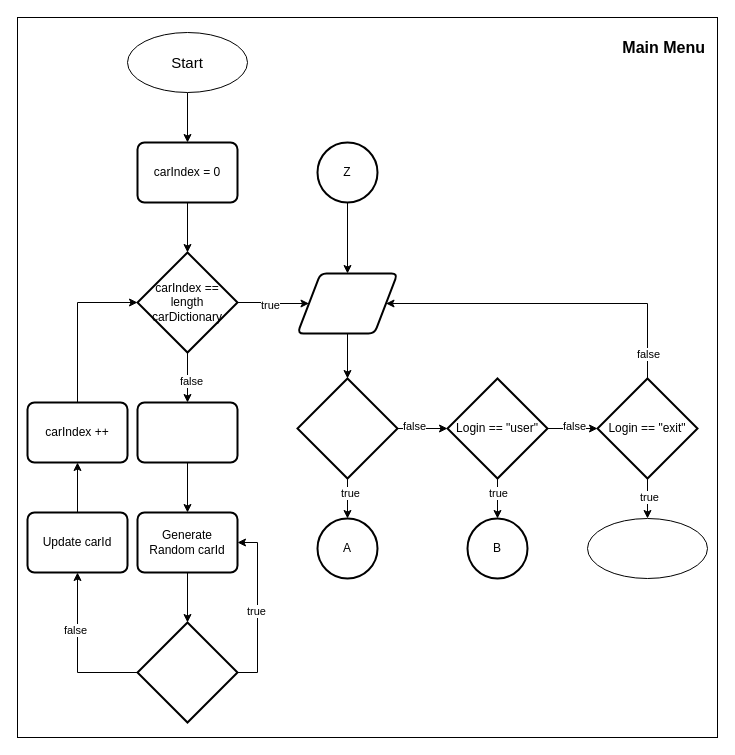
Image size: 735x755. Some labels were removed from this diagram. Each missing label, with the centre of its shape:
Access carDictionary for carIndex: [187,432]
carId is already exist: [187,672]
End: [647,548]
Input Login: [347,303]
Login == "admin": [347,428]
